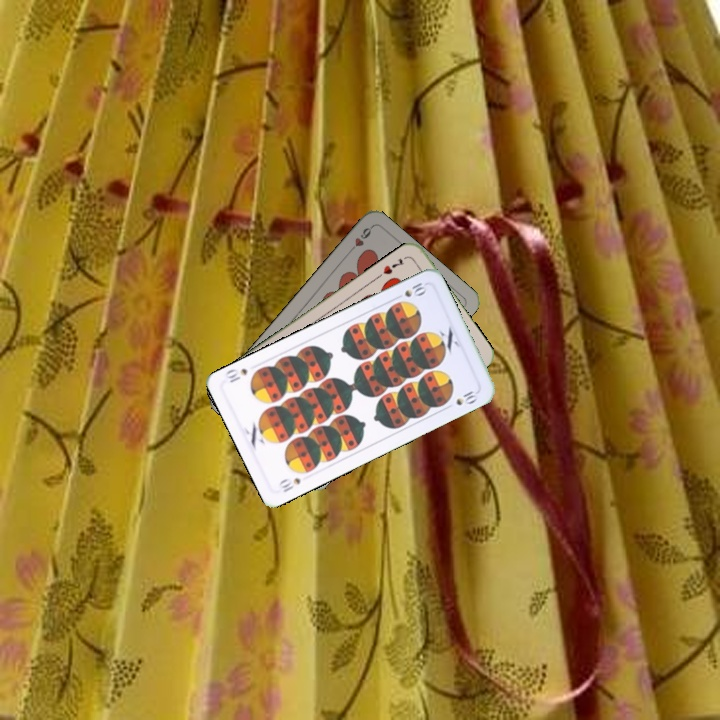H7: (379, 254, 407, 277)
H9: (344, 223, 375, 256)
S10: (390, 277, 429, 302), (274, 474, 303, 495)
